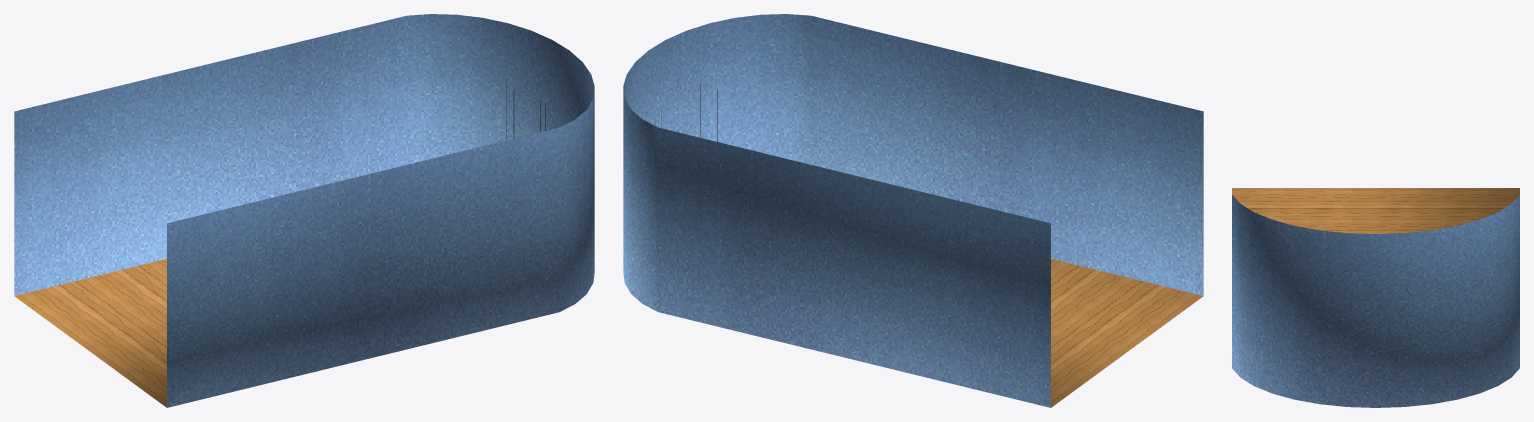
File: shipinside.glb
3 views of the same model, side by side, from view 1: azimuth 30°, elevation 25°; view 2: azimuth 150°, elevation 25°; view 3: azimuth 270°, elevation 25° (orthographic). The views are drawn at different scales.
Visible parts, largest first — view 1: Cylinder; view 2: Cylinder; view 3: Cylinder.
Boxes of the visible parts, box(x1,y1,x2,y2) form: Cylinder: box(14, 14, 594, 407); Cylinder: box(623, 14, 1203, 407); Cylinder: box(1232, 188, 1519, 407).
Bounding box in the file's own units: 124 × 45.77 × 68.57.
1 material, 1 textured.
